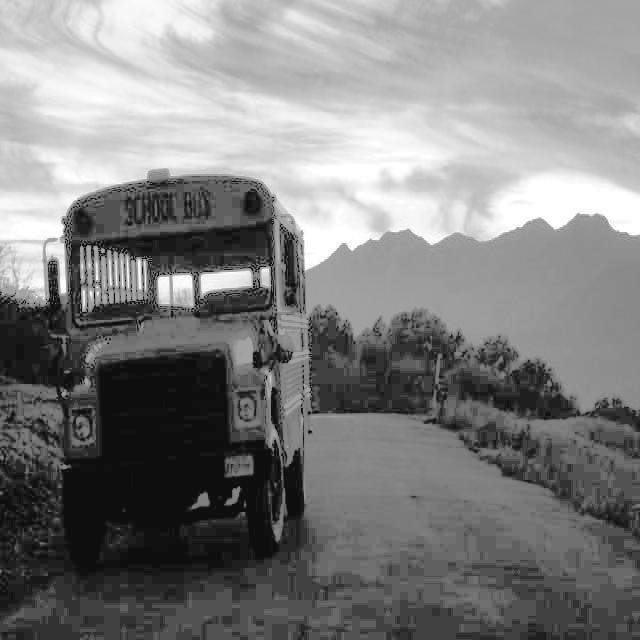Bus: (38, 174, 326, 574)
